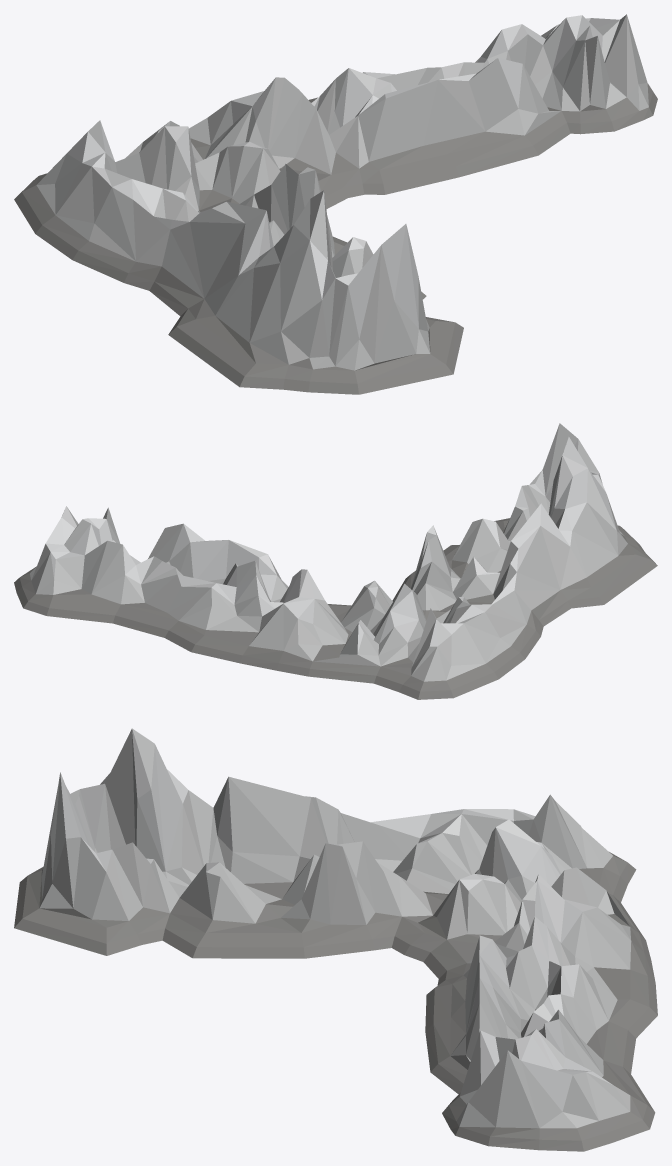
File: mountain_8.fbx
The picture shows the model from 3 angles, top to bottom: view 1: azimuth 30°, elevation 25°; view 2: azimuth 150°, elevation 25°; view 3: azimuth 270°, elevation 25°; orthographic projection. The views are drawn at different scales.
Visible parts, largest first — view 1: mountain_8; view 2: mountain_8; view 3: mountain_8.
Boxes of the visible parts, x1,y1,x2,y2 form: mountain_8: [14, 14, 657, 394]; mountain_8: [14, 423, 657, 699]; mountain_8: [14, 728, 657, 1151].
Size of the model in its own units: 9726 by 2395 by 8530.
